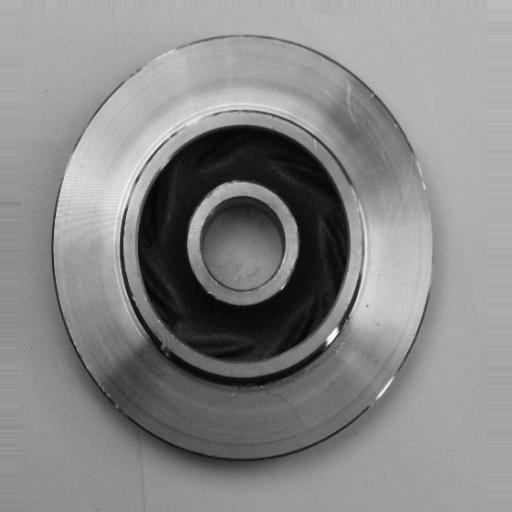scratch: (315, 316, 350, 360), (169, 110, 216, 137)
unpolished_casting: (48, 31, 437, 463)
